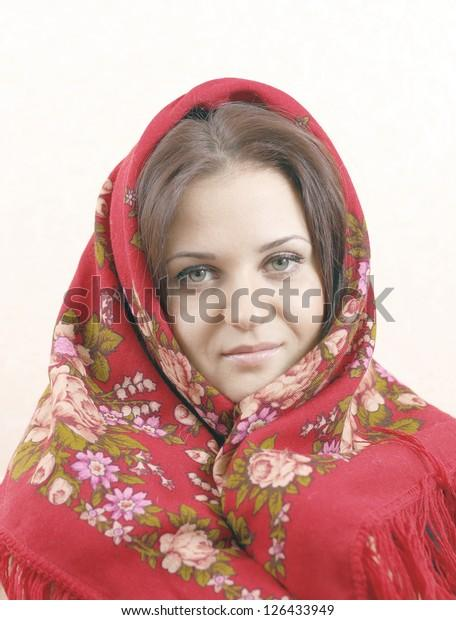scarf-kerchief: (53, 53, 420, 415)
